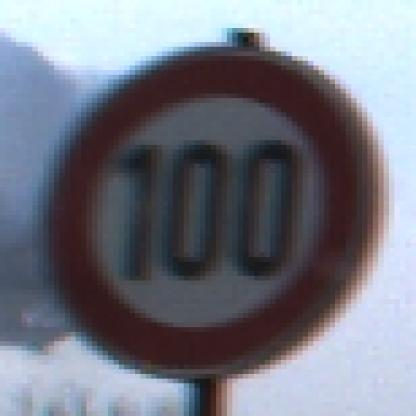Speed Limit 100: (58, 51, 366, 374)
